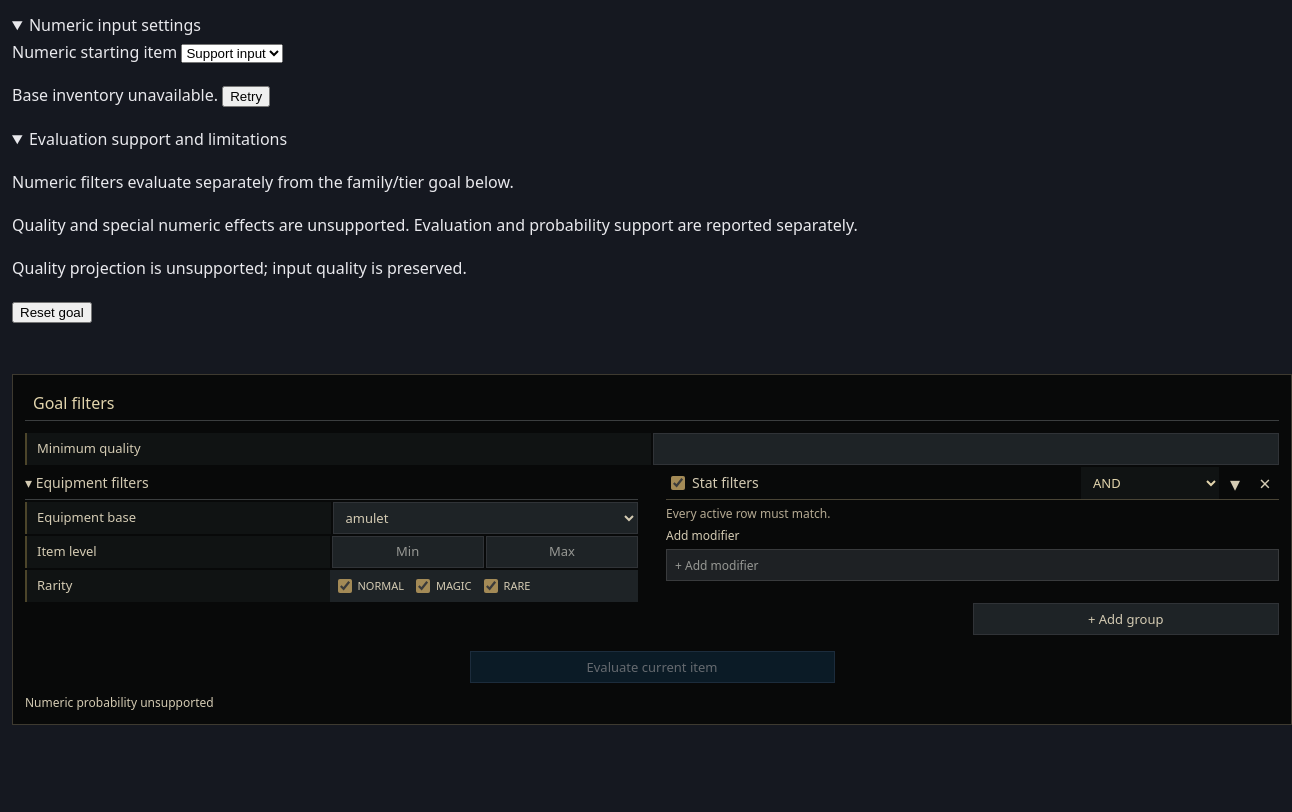
Test: production goal connection › keeps inputs and permits retry after service failure
Focus the dropdown named "Search stats" at (972, 566), box left=666, top=550, right=1279, bottom=582
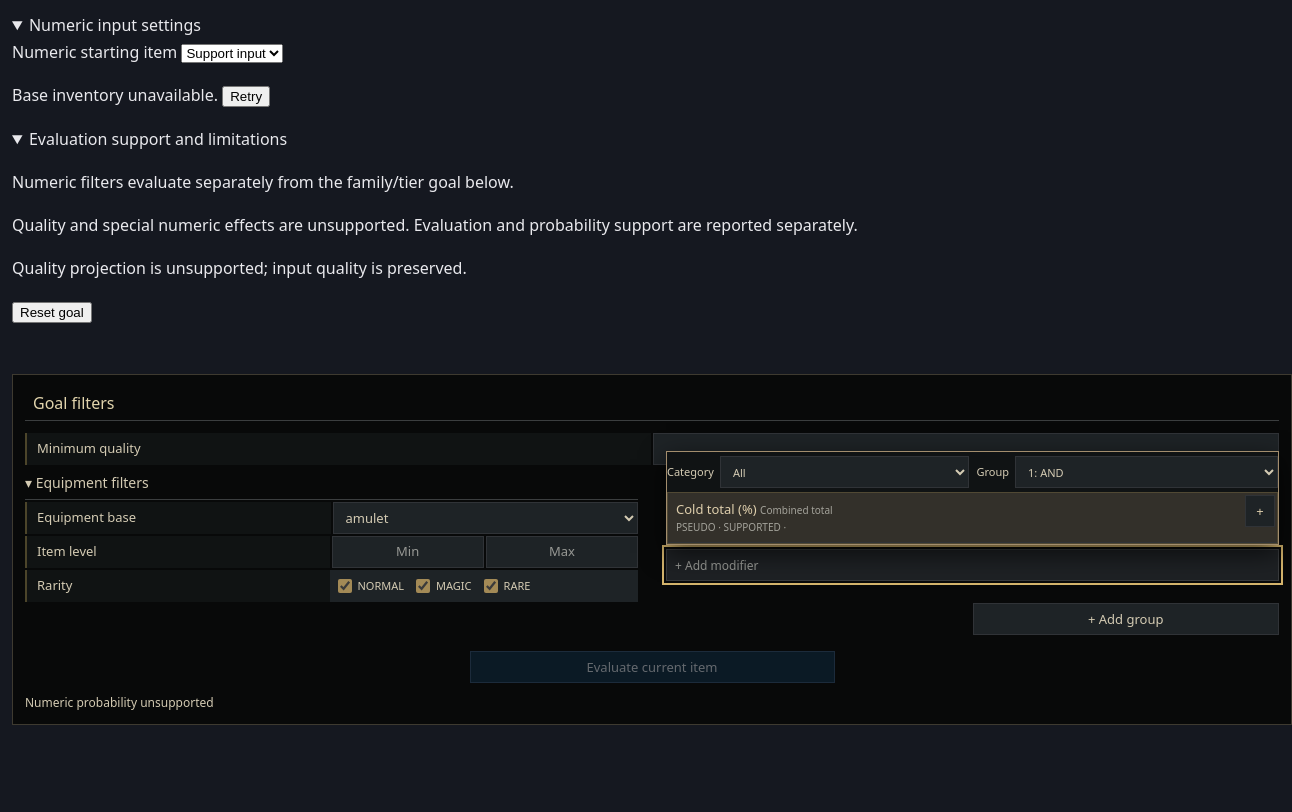
Click the button named "Add Cold total" at (1260, 511), box left=1245, top=495, right=1275, bottom=527
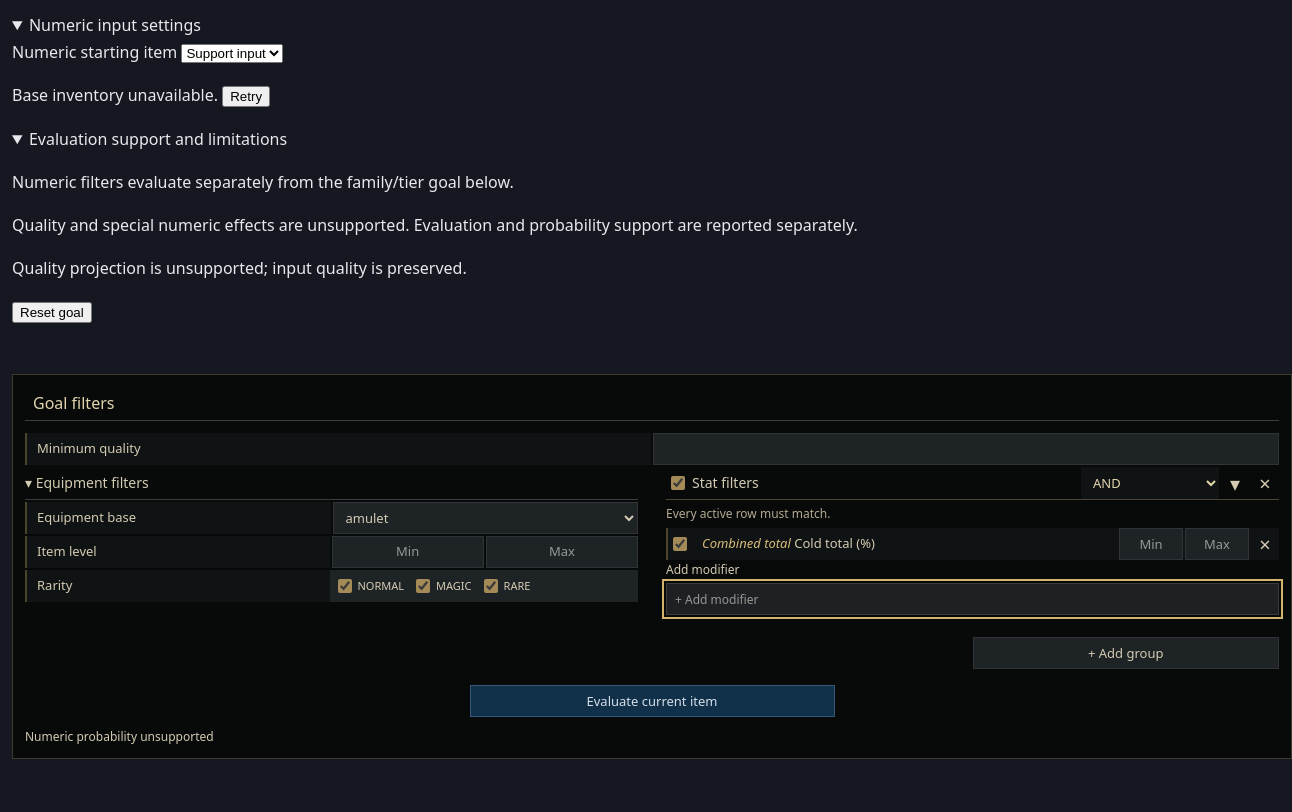
Now the button "Evaluate current item" is enabled
Click the button "Evaluate current item" at (652, 702), box left=470, top=686, right=834, bottom=718
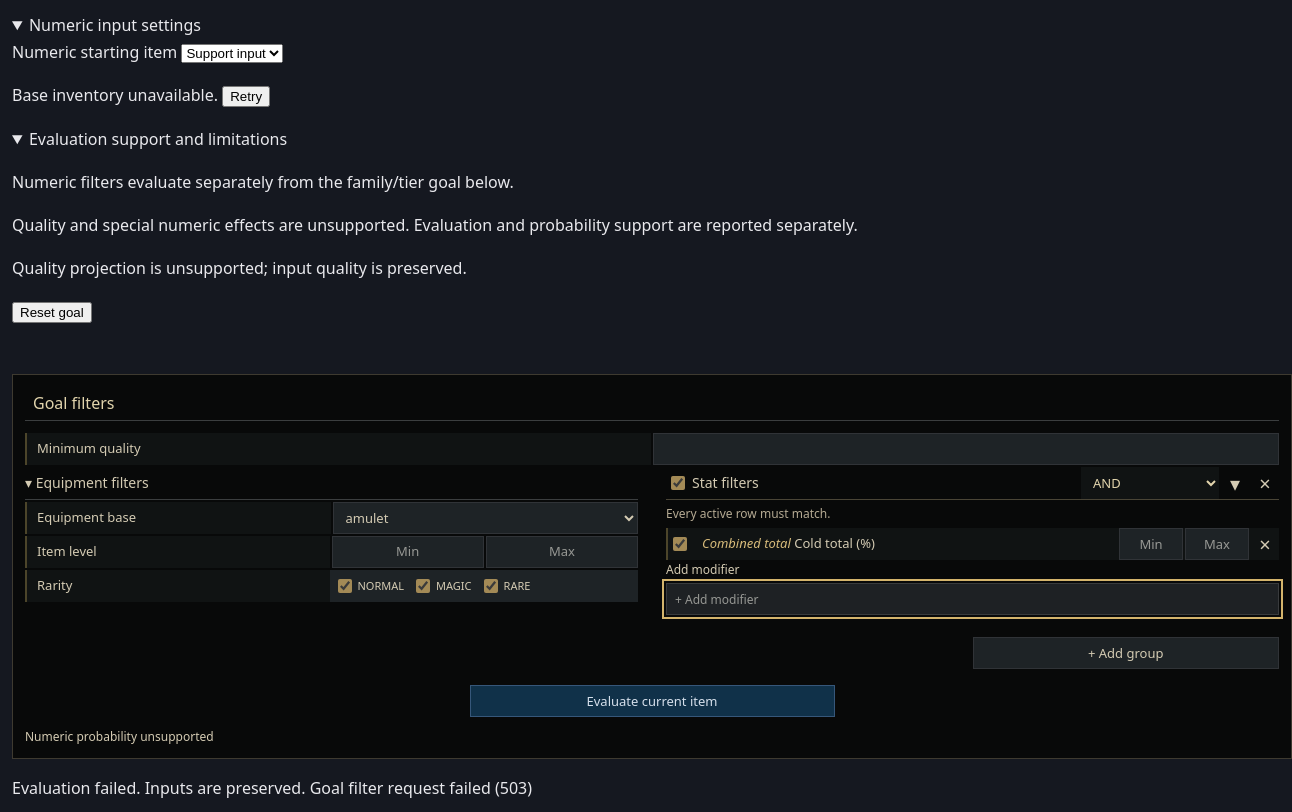
Now the button "Evaluate current item" is enabled, box left=470, top=686, right=834, bottom=718
Now the text "Cold total (%)" is shown, box left=794, top=534, right=875, bottom=552
Now the text "Evaluation failed. Inputs are preserved. Goal filter request failed (503)" is shown, box left=12, top=777, right=532, bottom=799
